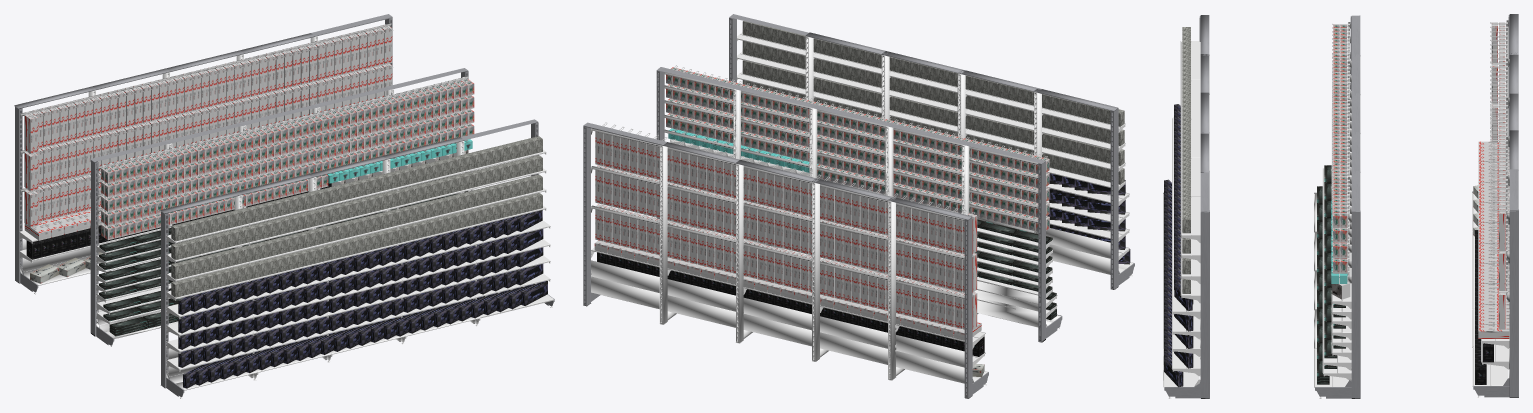
The model's file is Maus.glb.
3 renders of one model, left to right at view 1: azimuth 30°, elevation 25°; view 2: azimuth 150°, elevation 25°; view 3: azimuth 270°, elevation 25°, orthographic. The views are drawn at different scales.
Parts seen in each view (by area): view 1: Cube.359, Cube.276, Куб.539, Куб.002, Куб.538, Куб.156, Основа стеллажа 225.002, Куб.018, Куб.022, Куб.020, Основа стеллажа 225.004, Куб.024 (+25 smaller); view 2: Основа стеллажа 225.004, Cube.276, Cube.359, Cube.281, Основа стеллажа 225.002, Балка оранжевая с основанием 225, Куб.002, Куб.539, Куб.538, Куб.021, Куб.023, Cube.272 (+24 smaller); view 3: Основа стеллажа 225.004, Балка оранжевая с основанием 225, Основа стеллажа 225.002, Cube.272, Cube.359, Полка 40.047, Куб.539, Куб.003, Куб.018, Куб.009, Куб.006, Cube.281 (+14 smaller).
Boxes of the visible parts, x1,y1,x2,y2 form: Cube.359: (32, 24, 393, 148); Cube.276: (36, 63, 393, 186); Куб.539: (171, 136, 542, 241); Куб.002: (171, 174, 542, 279); Куб.538: (171, 155, 542, 260); Куб.156: (171, 193, 542, 297); Основа стеллажа 225.002: (160, 119, 554, 398); Куб.018: (104, 80, 474, 183); Куб.022: (104, 109, 474, 211); Куб.020: (104, 95, 474, 197); Основа стеллажа 225.004: (14, 14, 392, 294); Куб.024: (104, 123, 474, 225); Основа стеллажа 225.004: (583, 122, 988, 398); Cube.276: (595, 165, 964, 291); Cube.359: (595, 122, 966, 253); Cube.281: (595, 204, 964, 328); Основа стеллажа 225.002: (729, 14, 1134, 289); Балка оранжевая с основанием 225: (656, 67, 1062, 342); Куб.002: (742, 60, 1124, 165); Куб.539: (742, 21, 1124, 126); Куб.538: (742, 41, 1124, 145); Куб.021: (666, 98, 1046, 202); Куб.023: (666, 113, 1046, 217); Cube.272: (594, 240, 981, 340); Основа стеллажа 225.004: (1472, 14, 1518, 397); Балка оранжевая с основанием 225: (1314, 15, 1360, 398); Основа стеллажа 225.002: (1163, 15, 1209, 398); Cube.272: (1478, 141, 1509, 338); Cube.359: (1490, 26, 1507, 250); Полка 40.047: (1180, 41, 1200, 242); Куб.539: (1182, 27, 1190, 233); Куб.003: (1340, 23, 1347, 227); Куб.018: (1333, 24, 1340, 227); Куб.009: (1324, 165, 1337, 358); Куб.006: (1317, 186, 1329, 379); Cube.281: (1490, 108, 1507, 329).
Size of the model in its own units: 5.11 by 2.27 by 3.89.
Materials: 17 (13 with a texture image).
